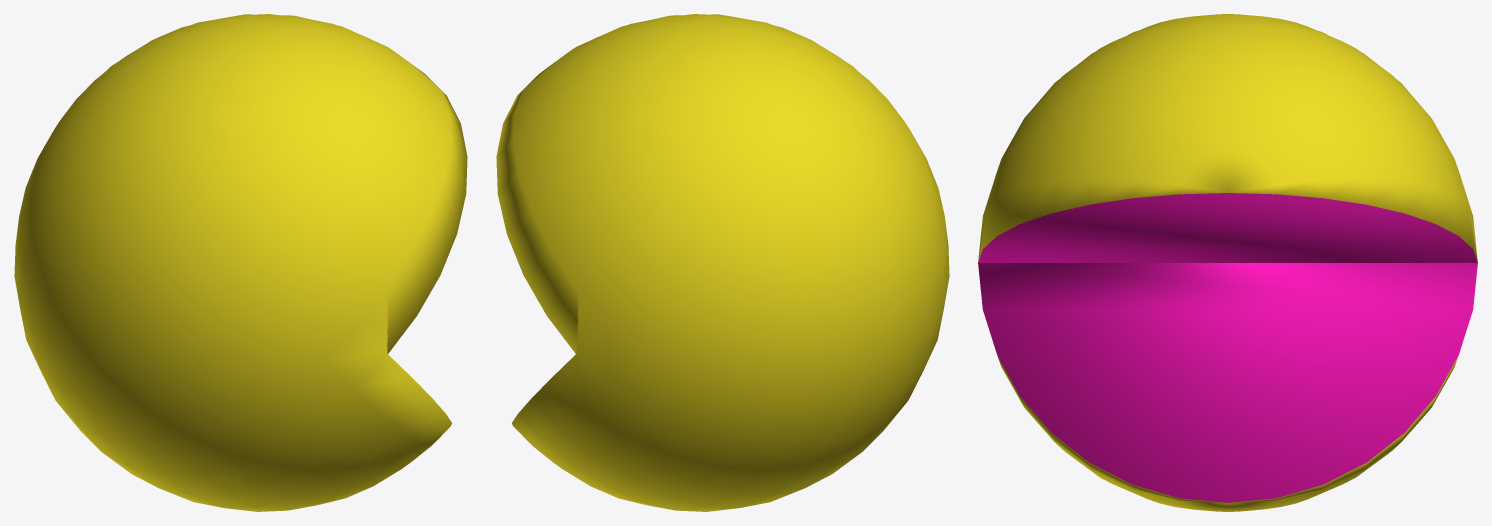
The model's file is PacMan.glb.
3 renders of one model, left to right at view 1: azimuth 30°, elevation 25°; view 2: azimuth 150°, elevation 25°; view 3: azimuth 270°, elevation 25°, orthographic.
Visible parts, largest first — view 1: Body, Mouth_top; view 2: Body, Mouth_top; view 3: Body, Mouth_top.
Part boxes in pixels (left/top/right/bottom): Body: left=14, top=14, right=451, bottom=511; Mouth_top: left=104, top=14, right=467, bottom=353; Body: left=512, top=14, right=949, bottom=511; Mouth_top: left=496, top=14, right=859, bottom=353; Body: left=978, top=14, right=1477, bottom=511; Mouth_top: left=978, top=17, right=1477, bottom=262.
Bounding box in the file's own units: 1.55 × 1.77 × 1.77.
